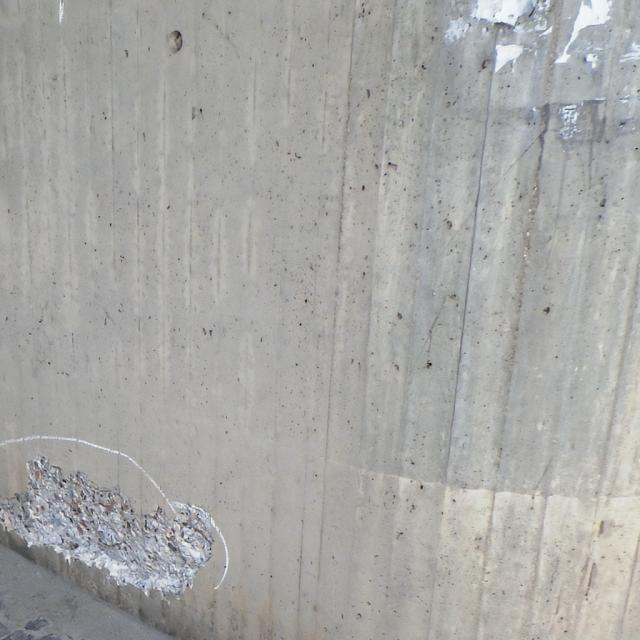D10: (0, 454, 221, 601)
